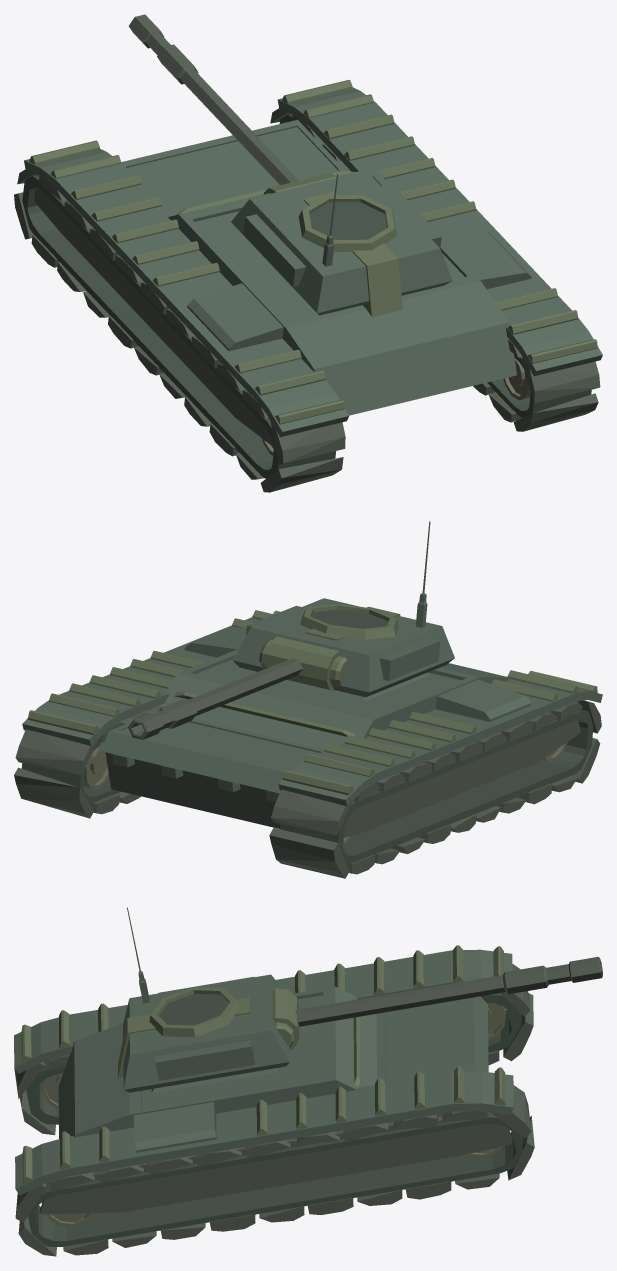
File: tank_guardian.glb
3 views of the same model, one above another, from view 1: azimuth 30°, elevation 25°; view 2: azimuth 150°, elevation 25°; view 3: azimuth 270°, elevation 25° (orthographic). The views are drawn at different scales.
Parts seen in each view (by area): view 1: TankBody, TankTurret; view 2: TankBody, TankTurret; view 3: TankBody, TankTurret.
Boxes of the visible parts, left/top/right/bottom form: TankBody: left=14, top=80, right=602, bottom=492; TankTurret: left=129, top=14, right=452, bottom=316; TankBody: left=14, top=610, right=602, bottom=878; TankTurret: left=128, top=521, right=454, bottom=739; TankBody: left=14, top=945, right=534, bottom=1256; TankTurret: left=118, top=907, right=602, bottom=1093.
Size of the model in its own units: 2.76 by 2.16 by 4.51.
